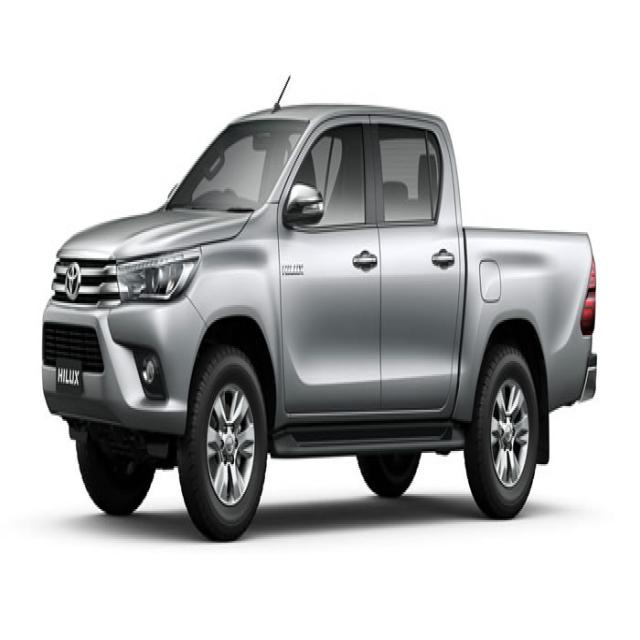light_vehicle: (43, 82, 586, 539)
